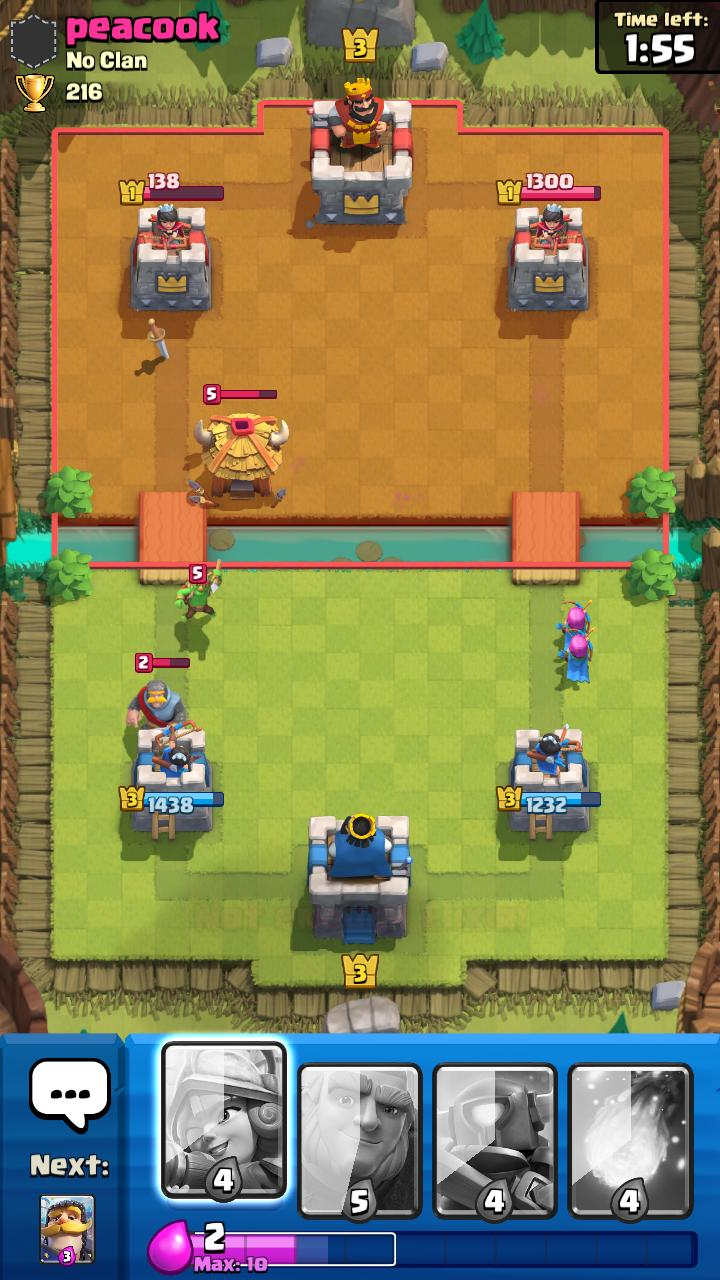ally: (557, 627, 595, 684), (555, 600, 592, 652)
enemy: (187, 384, 289, 508), (126, 653, 190, 730), (174, 559, 223, 620)
